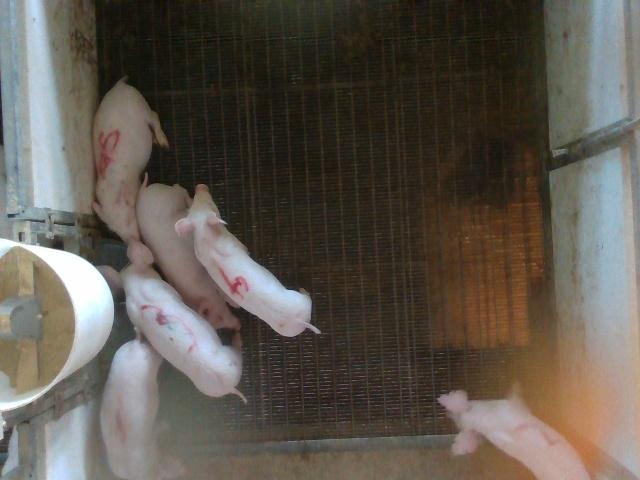pig-1: (100, 334, 162, 479)
pig-2: (438, 390, 590, 479)
pig-3: (99, 240, 245, 399)
pig-4: (175, 184, 320, 336)
pig-5: (92, 78, 169, 242)
